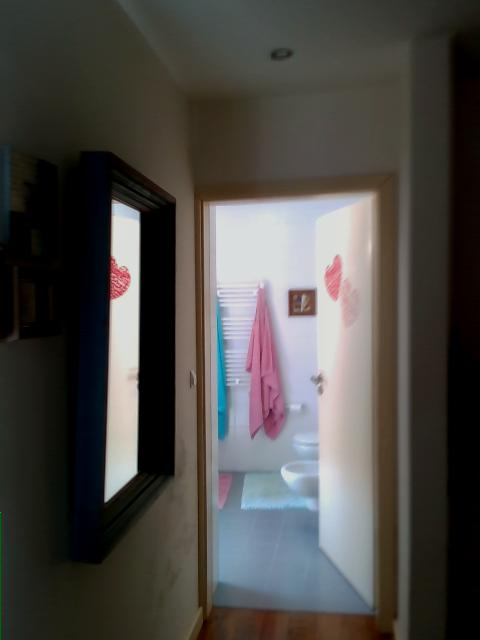open_door: (192, 168, 400, 614)
